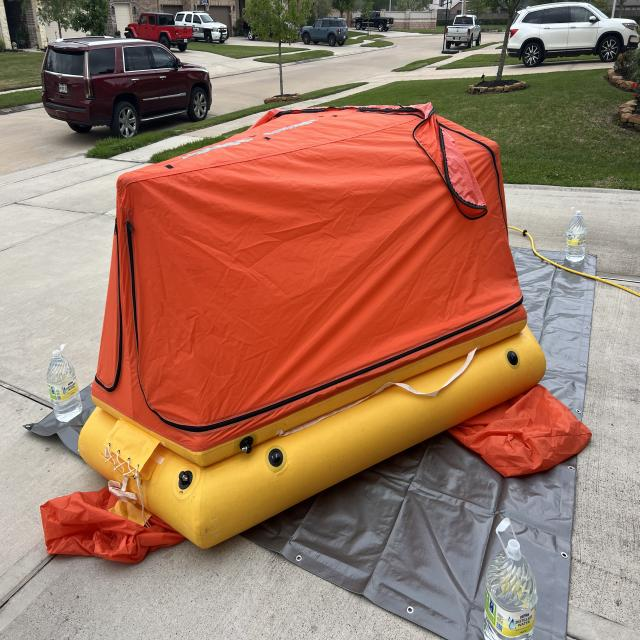Multi-person_life_raft: (40, 102, 592, 566)
